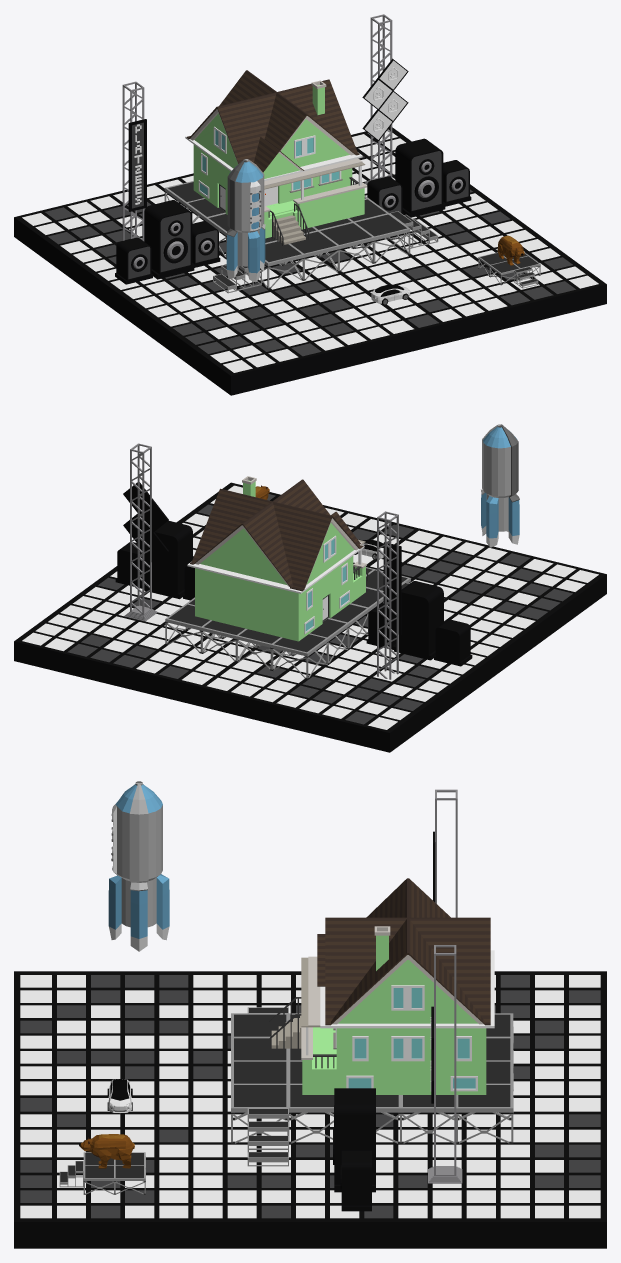
3 renders of one model, top to bottom at view 1: azimuth 30°, elevation 25°; view 2: azimuth 150°, elevation 25°; view 3: azimuth 270°, elevation 25°, orthographic. The views are drawn at different scales.
Visible parts, largest first — view 1: Cube.008, Cube.274, OBJRANDOM_ROCKETSHIP, VEHICLES_TESLA, ANIMAL_OSO; view 2: Cube.008, Cube.274, OBJRANDOM_ROCKETSHIP; view 3: Cube.008, Cube.274, OBJRANDOM_ROCKETSHIP, ANIMAL_OSO, VEHICLES_TESLA.
Boxes of the visible parts, <box> form: Cube.008: <box>14,14,606,395</box>; Cube.274: <box>185,70,367,245</box>; OBJRANDOM_ROCKETSHIP: <box>226,159,265,282</box>; VEHICLES_TESLA: <box>371,284,410,304</box>; ANIMAL_OSO: <box>497,235,524,265</box>; Cube.008: <box>14,443,606,752</box>; Cube.274: <box>187,476,368,641</box>; OBJRANDOM_ROCKETSHIP: <box>481,424,519,547</box>; Cube.008: <box>14,789,606,1248</box>; Cube.274: <box>269,878,494,1094</box>; OBJRANDOM_ROCKETSHIP: <box>108,781,169,951</box>; ANIMAL_OSO: <box>79,1134,134,1168</box>; VEHICLES_TESLA: <box>107,1079,132,1113</box>.
Bounding box in the file's own units: 4000 × 1987 × 4000.
38 materials, 1 textured.
